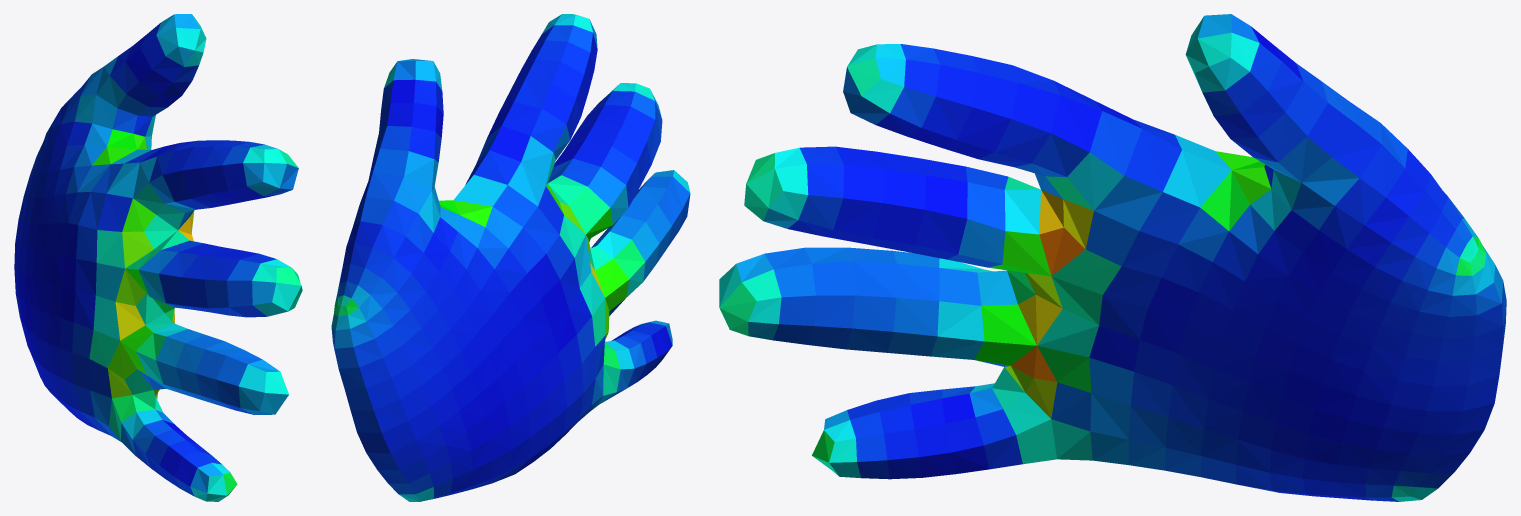
File: hand2_opt_quality.obj
3 renders of one model, left to right at view 1: azimuth 30°, elevation 25°; view 2: azimuth 150°, elevation 25°; view 3: azimuth 270°, elevation 25°, orthographic. The views are drawn at different scales.
Bounding box in the file's own units: 10.46 × 23.71 × 31.15.
